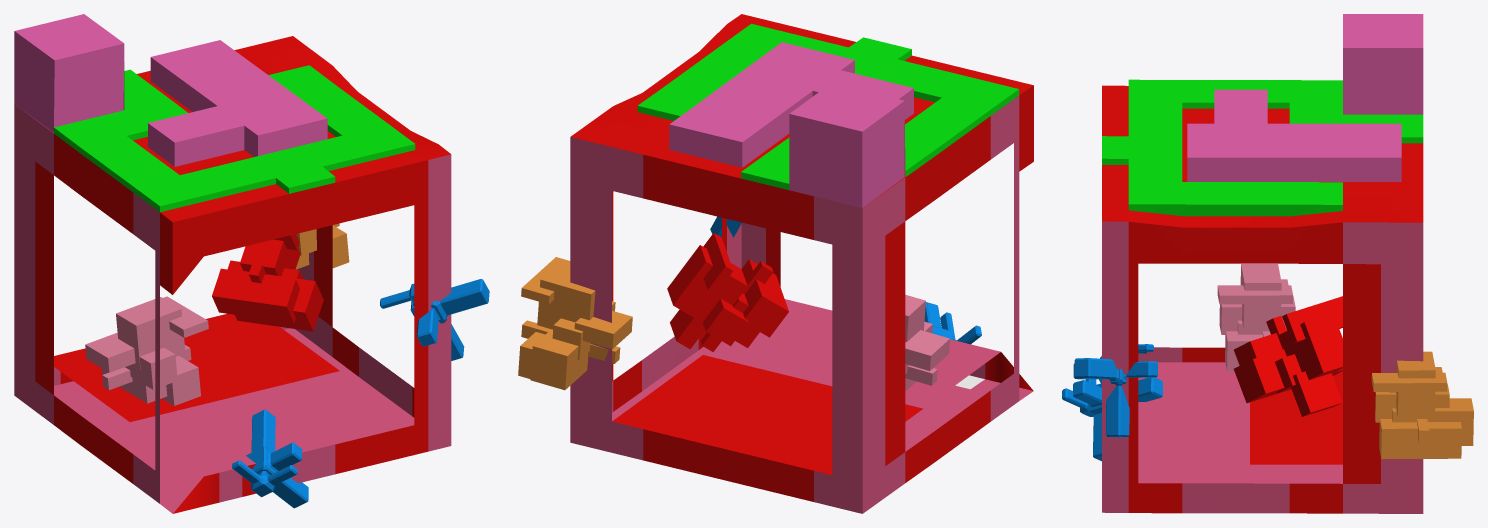
File: Level 3 FIXED 3.fbx
3 renders of one model, left to right at view 1: azimuth 30°, elevation 25°; view 2: azimuth 150°, elevation 25°; view 3: azimuth 270°, elevation 25°, orthographic. The views are drawn at different scales.
Visible parts, largest first — view 1: Level 3, Weird Jumbled Cube, Weird Jumbled Cube.001, Cube.002, Cube.009, Weird Jumbled Cube.002; view 2: Level 3, Weird Jumbled Cube.001, Weird Jumbled Cube.002, Weird Jumbled Cube, Cube.002; view 3: Level 3, Weird Jumbled Cube.001, Weird Jumbled Cube.002, Weird Jumbled Cube, Cube.009, Cube.002.
Part boxes in pixels (x1,y1,x2,y2): Level 3: (14, 14, 451, 513); Weird Jumbled Cube: (85, 296, 208, 405); Weird Jumbled Cube.001: (212, 234, 323, 331); Cube.002: (232, 409, 308, 508); Cube.009: (380, 279, 489, 360); Weird Jumbled Cube.002: (295, 223, 349, 269); Level 3: (570, 14, 1033, 513); Weird Jumbled Cube.001: (667, 233, 788, 352); Weird Jumbled Cube.002: (518, 257, 632, 390); Weird Jumbled Cube: (905, 294, 949, 390); Cube.002: (924, 302, 981, 344); Level 3: (1102, 14, 1423, 513); Weird Jumbled Cube.001: (1233, 296, 1342, 416); Weird Jumbled Cube.002: (1371, 351, 1473, 458); Weird Jumbled Cube: (1217, 264, 1295, 371); Cube.009: (1073, 344, 1157, 437); Cube.002: (1062, 377, 1162, 461).
Size of the model in its own units: 1402 by 1604 by 1538.
